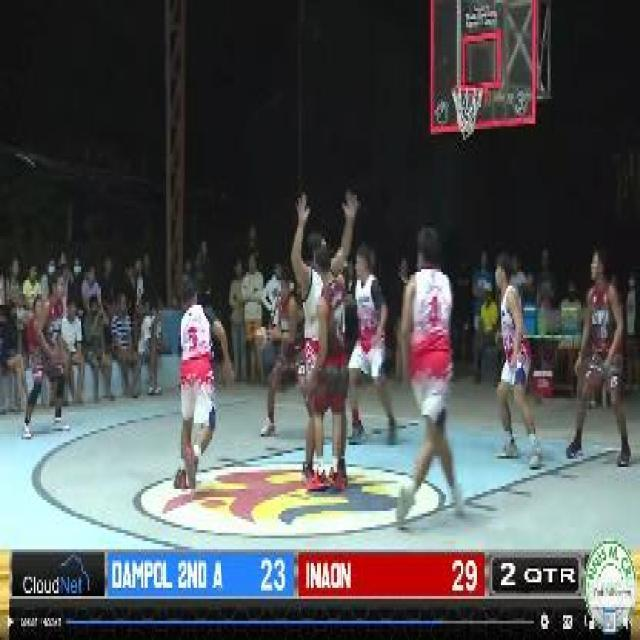ball: (252, 323, 271, 358)
hoop: (443, 84, 485, 95)
